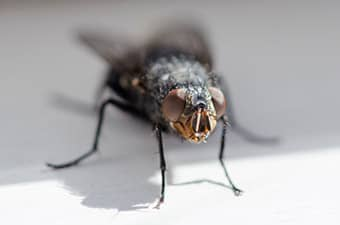house fly: (45, 15, 282, 205)
